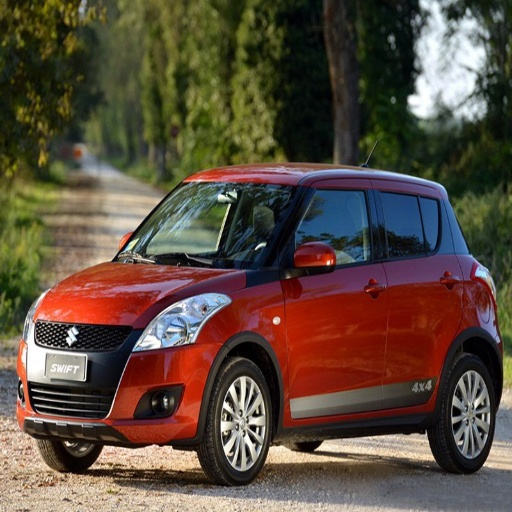front_bumper: (20, 324, 219, 444)
front_glass: (115, 178, 303, 264)
front_left_door: (283, 179, 386, 414)
